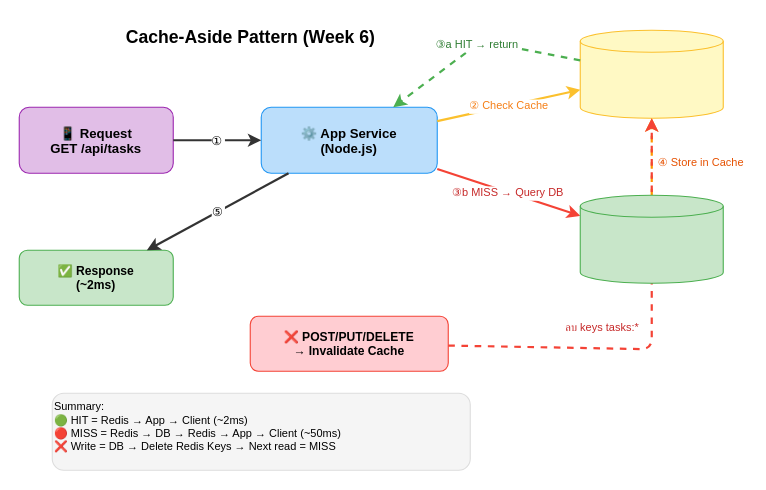
Some shapes in this 766 by 490 pixel diagram are drawn without their labels. Each missing label, with the centre of its shape:
"⚡ Redis Cache" belongs at pixel 651 73.
"🐘 PostgreSQL" belongs at pixel 651 238.
